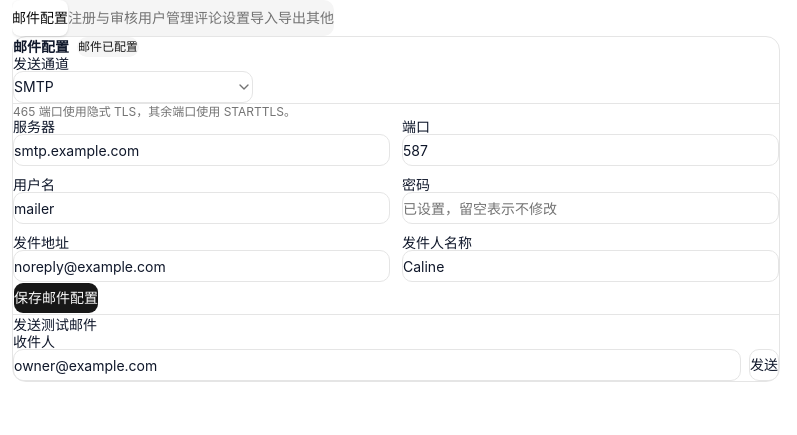
it: 系统管理 › 测试邮件失败时直出 provider 原文
Expected: the field labelled "收件人" is shown, [13, 349, 741, 381]
What coordinates should you click on to do the following:
click the button "发送"
I would click on:
 (764, 365)
Its box is [749, 349, 779, 381].
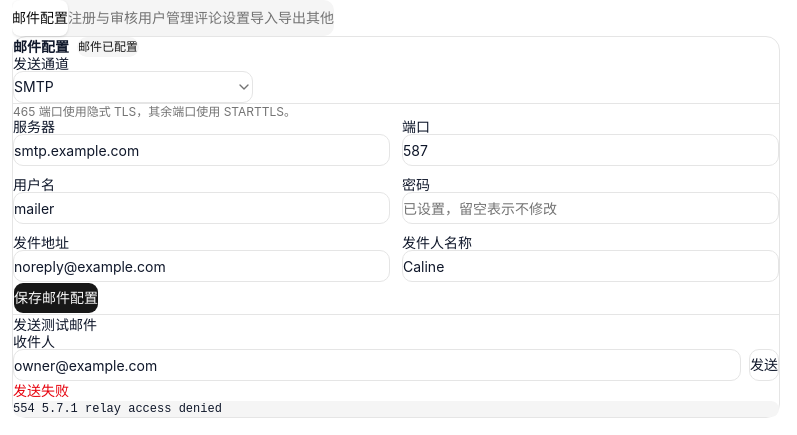
Result: the text "554 5.7.1 relay access denied" is shown at [13, 401, 779, 417]
